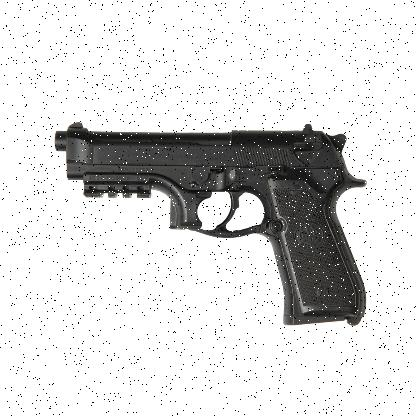gun: (53, 122, 366, 324)
